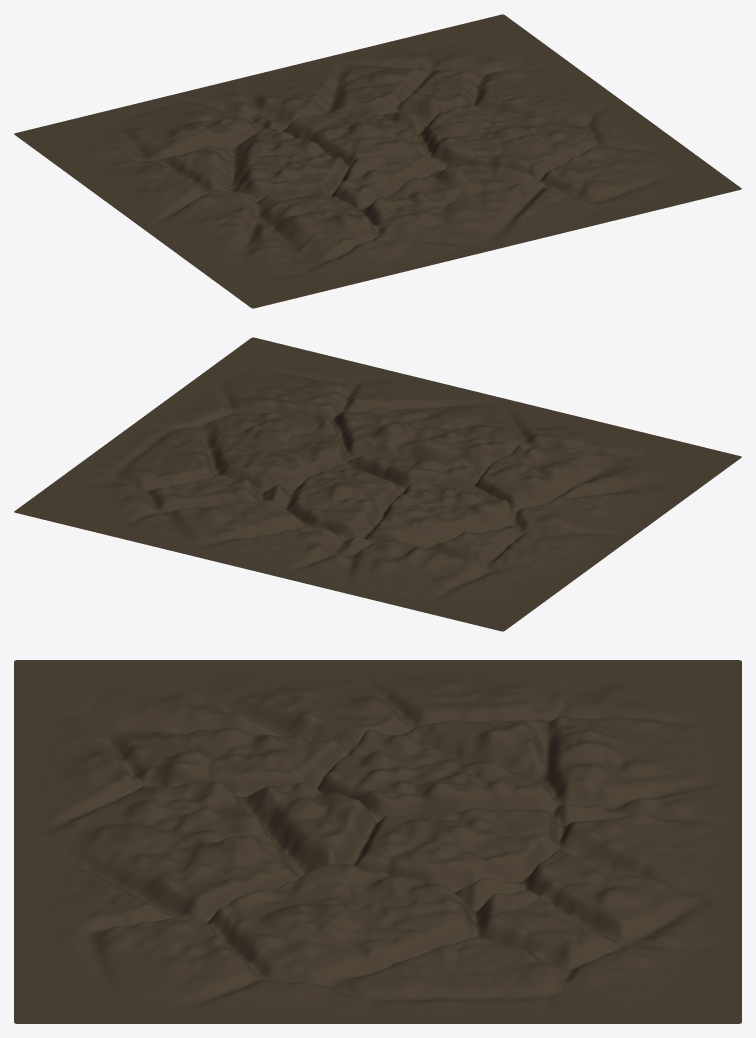
Rendered from SM_Terrain_5.fbx.
3 views of the same model, one above another, from view 1: azimuth 30°, elevation 25°; view 2: azimuth 150°, elevation 25°; view 3: azimuth 270°, elevation 25° (orthographic). The views are drawn at different scales.
Parts seen in each view (by area): view 1: Terrain; view 2: Terrain; view 3: Terrain.
Part boxes in pixels (box(x1,y1,x2,y2)): Terrain: box(14, 14, 741, 308); Terrain: box(14, 337, 741, 631); Terrain: box(14, 660, 741, 1023).
Size of the model in its own units: 446000 by 377000 by 20708.
